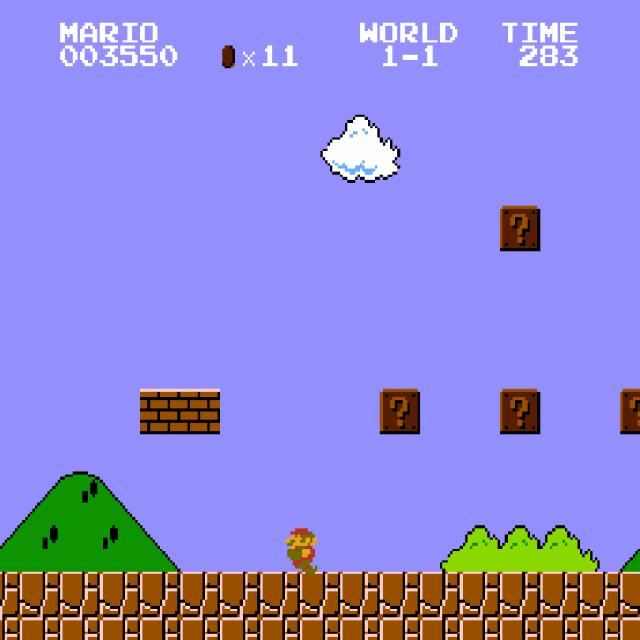brick_block: (140, 389, 180, 434), (180, 389, 220, 434)
little_mario: (277, 526, 320, 574)
mystery_block: (380, 389, 420, 434), (500, 206, 540, 251), (500, 389, 540, 434), (620, 389, 640, 434)
undestructible_block: (20, 572, 60, 617), (60, 572, 100, 617), (100, 572, 140, 617), (140, 572, 180, 617), (180, 572, 220, 617), (220, 572, 260, 617), (260, 572, 300, 617), (300, 572, 340, 617), (340, 572, 380, 617), (380, 572, 420, 617), (420, 572, 460, 617), (460, 572, 500, 617), (500, 572, 540, 617), (540, 572, 580, 617), (580, 572, 620, 617), (20, 617, 60, 640), (60, 617, 100, 640), (100, 617, 140, 640), (140, 617, 180, 640), (180, 617, 220, 640), (220, 617, 260, 640), (260, 617, 300, 640), (300, 617, 340, 640), (340, 617, 380, 640), (380, 617, 420, 640), (420, 617, 460, 640), (460, 617, 500, 640), (500, 617, 540, 640), (540, 617, 580, 640), (580, 617, 620, 640), (0, 572, 20, 617), (620, 572, 640, 617), (0, 617, 20, 640), (620, 617, 640, 640)
